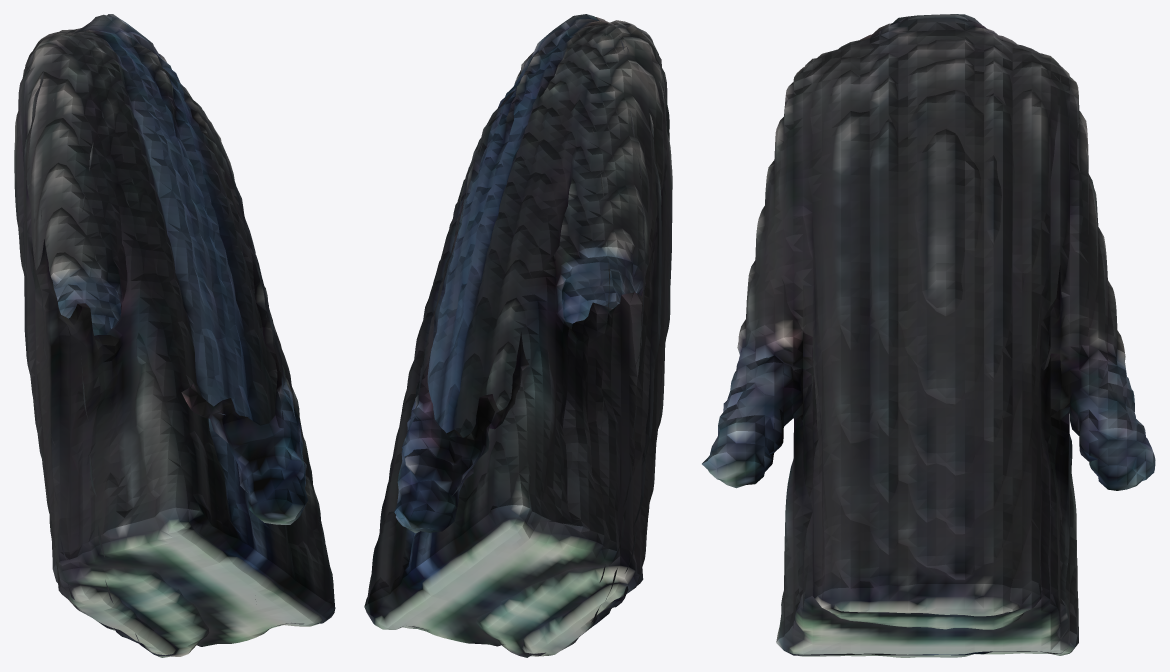
File: SoQvVUKJ4KX4igEPHaq4-draft.glb
The picture shows the model from 3 angles, left to right: view 1: azimuth 30°, elevation 25°; view 2: azimuth 150°, elevation 25°; view 3: azimuth 270°, elevation 25°; orthographic projection.
Visible parts, largest first — view 1: world; view 2: world; view 3: world.
Boxes of the visible parts, x1,y1,x2,y2 form: world: (14, 14, 335, 657); world: (364, 14, 672, 657); world: (702, 14, 1155, 657).
Size of the model in its own units: 0.3591 by 0.9564 by 0.6528.
